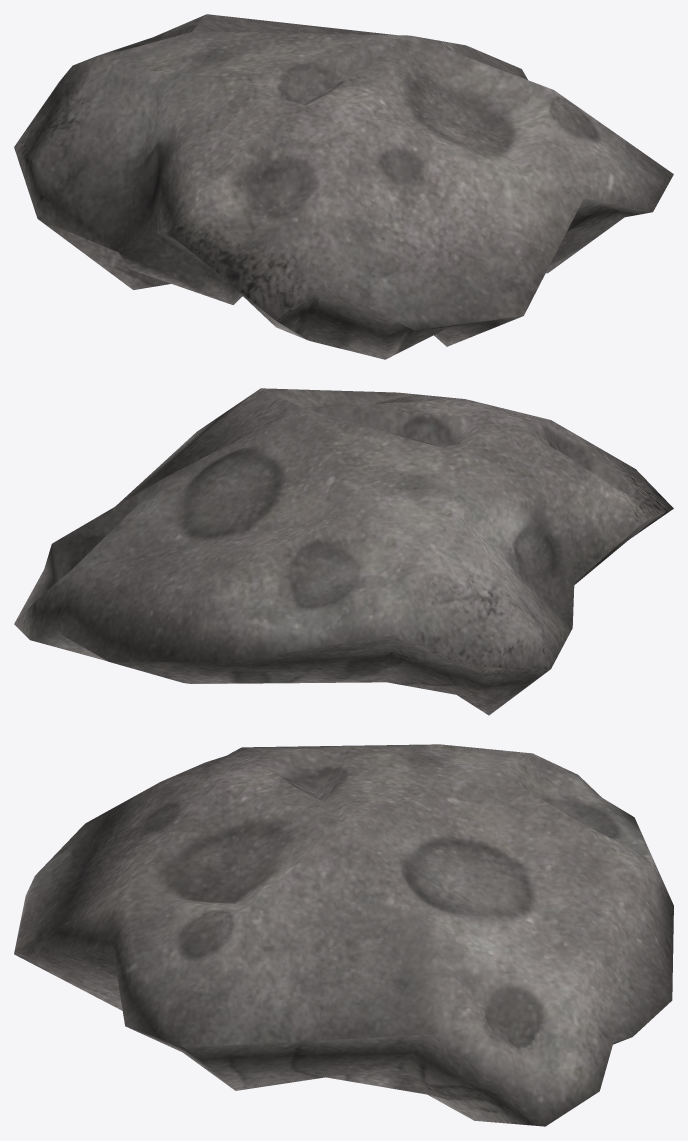
File: Asteroid_piece_03.FBX
3 views of the same model, one above another, from view 1: azimuth 30°, elevation 25°; view 2: azimuth 150°, elevation 25°; view 3: azimuth 270°, elevation 25° (orthographic). The views are drawn at different scales.
Visible parts, largest first — view 1: Asteroid_piece_03; view 2: Asteroid_piece_03; view 3: Asteroid_piece_03.
Boxes of the visible parts, x1,y1,x2,y2 form: Asteroid_piece_03: [14, 14, 673, 359]; Asteroid_piece_03: [14, 388, 673, 715]; Asteroid_piece_03: [14, 744, 673, 1126].
Size of what is drawn, in the model's own units: 35.83 by 16.66 by 39.2.
